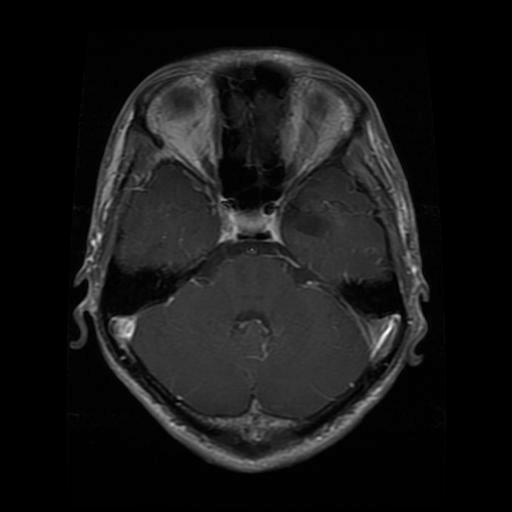Tumour-Glioma: (282, 193, 345, 261)
